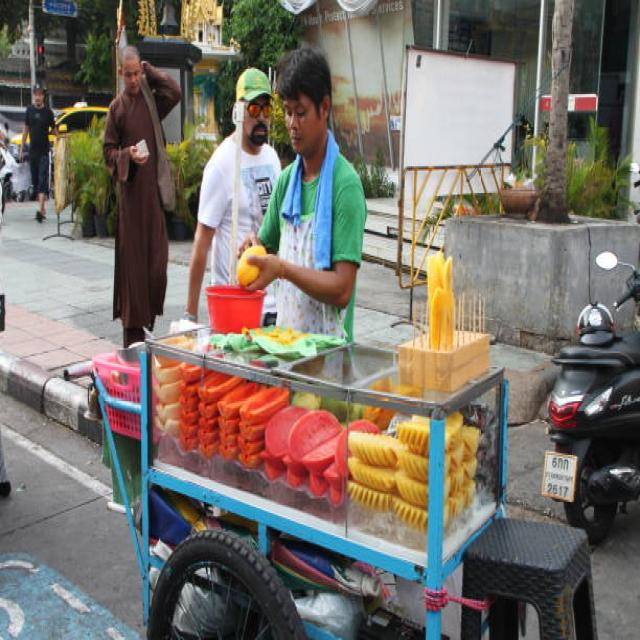Emperan: (51, 241, 534, 640)
